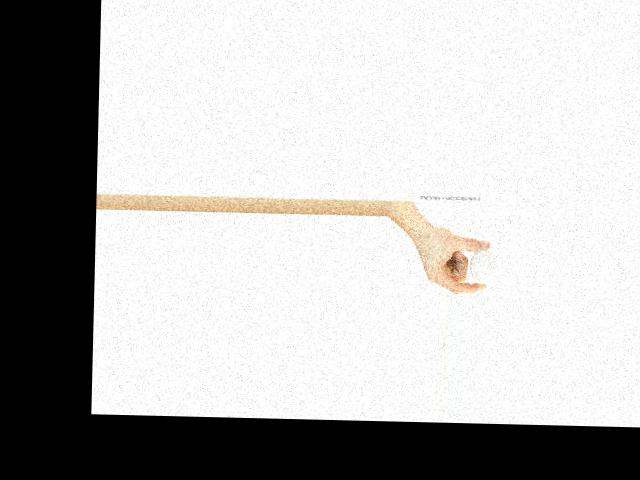egg: (469, 249, 494, 284)
